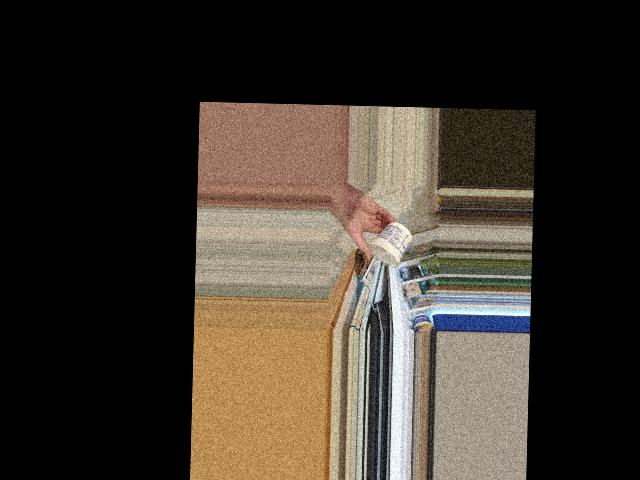cotage: (363, 222, 407, 261)
